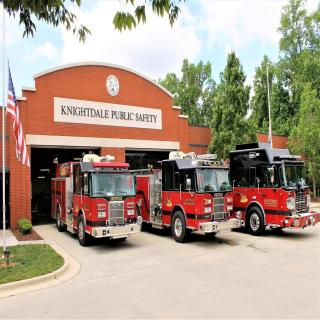Fire_truck: (130, 150, 244, 243), (51, 150, 143, 246), (226, 142, 318, 236)
